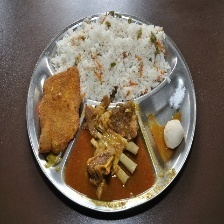rice: (47, 7, 176, 102)
